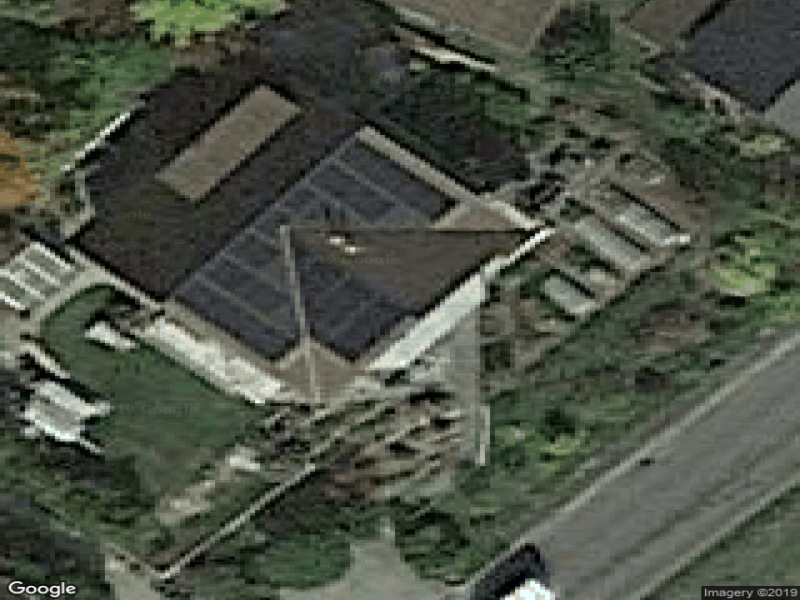pv: (177, 140, 457, 366)
